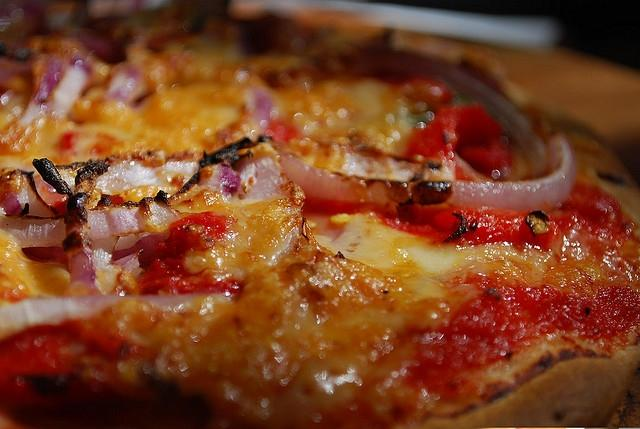onion: (274, 132, 576, 213), (404, 57, 548, 177), (2, 294, 230, 340), (1, 202, 182, 247), (62, 163, 110, 291), (340, 153, 455, 182), (232, 156, 291, 200), (94, 162, 166, 196), (15, 168, 58, 218), (112, 229, 169, 266), (245, 86, 278, 135), (104, 63, 142, 104), (51, 64, 87, 107), (35, 58, 64, 102), (91, 235, 119, 272)
tomato: (0, 323, 117, 420), (404, 102, 506, 164), (430, 210, 557, 252), (394, 78, 453, 110), (262, 117, 300, 142), (60, 133, 74, 150)
